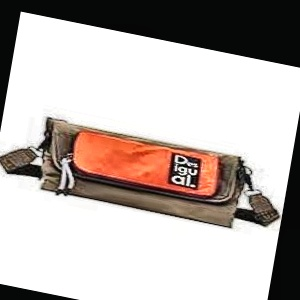desigual: (116, 87, 298, 222)
